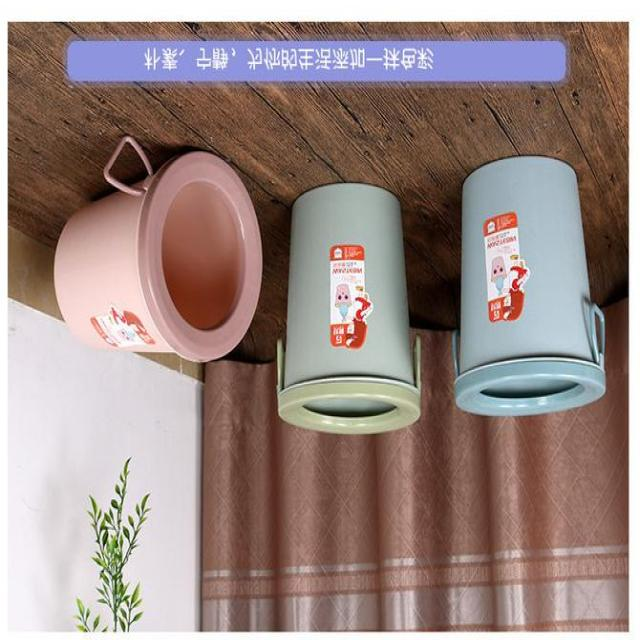dustbin: (54, 123, 266, 368), (448, 146, 608, 424), (272, 181, 422, 439)
